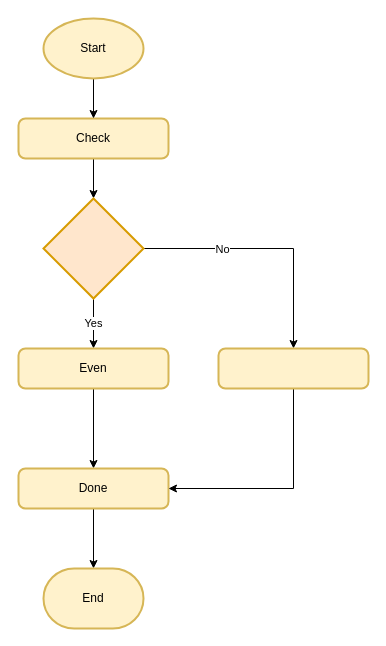
The diagram is 386 pixels wide and 646 high, and some of its shapes have lost their labels. Here are the shapes that lost their labels. From the top down, the box of each, then its label:
(42, 197, 144, 299): Even?
(217, 347, 369, 389): Odd
